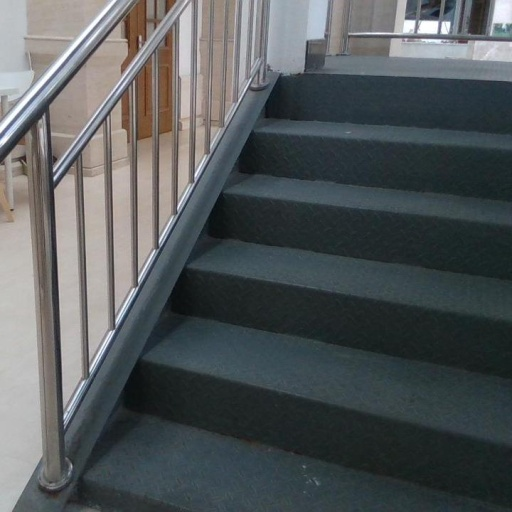Stairs: (66, 58, 512, 512)
